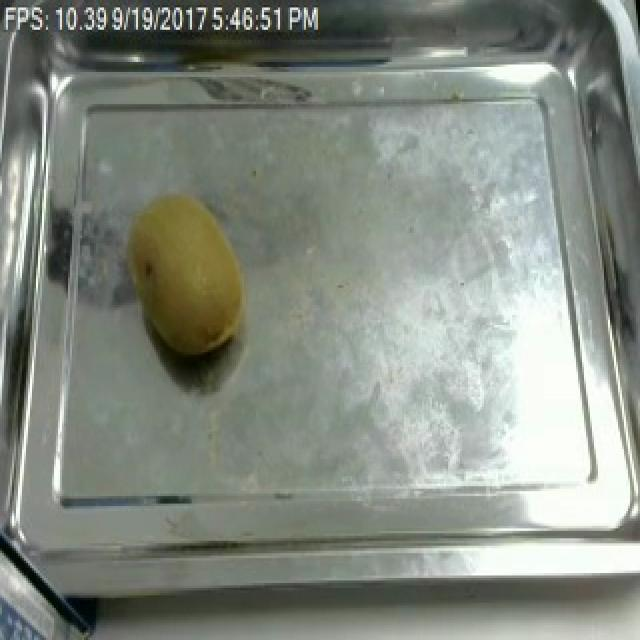Fruit: (118, 186, 254, 365)
